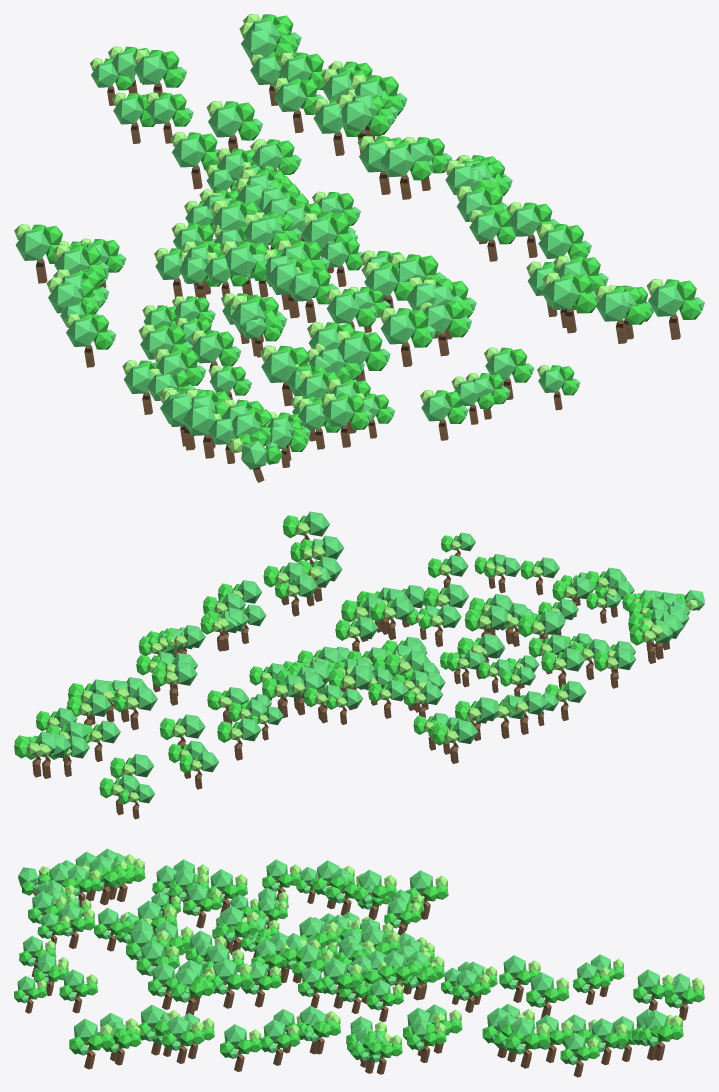
The model's file is tree1.gltf.
3 views of the same model, one above another, from view 1: azimuth 30°, elevation 25°; view 2: azimuth 150°, elevation 25°; view 3: azimuth 270°, elevation 25° (orthographic). The views are drawn at different scales.
Visible parts, largest first — view 1: tree 1.127, tree 1.101, tree 1.065, tree 1.100, tree 1.113, tree 1.017, tree 1.098, tree 1.076, tree 1.051, tree 1.031, tree 1.005, tree 1.029 (+73 smaller); view 2: tree 1.017, tree 1.104, tree 1.076, tree 1.031, tree 1.127, tree 1.019, tree 1.100, tree 1.014, tree 1.072, tree 1.122, tree 1.105, tree 1.047 (+62 smaller); view 3: tree 1.127, tree 1.126, tree 1.093, tree 1.122, tree 1.100, tree 1.084, tree 1.114, tree 1.125, tree 1.037, tree 1.092, tree 1.098, tree 1.076 (+87 smaller).
Boxes of the visible parts, left/top/right/bottom form: tree 1.127: left=646, top=279, right=704, bottom=339; tree 1.101: left=542, top=272, right=598, bottom=333; tree 1.065: left=379, top=308, right=435, bottom=366; tree 1.100: left=206, top=101, right=262, bottom=153; tree 1.113: left=594, top=285, right=650, bottom=343; tree 1.017: left=14, top=224, right=70, bottom=283; tree 1.098: left=132, top=49, right=186, bottom=97; tree 1.076: left=170, top=132, right=219, bottom=189; tree 1.051: left=337, top=331, right=390, bottom=381; tree 1.031: left=260, top=345, right=312, bottom=406; tree 1.005: left=64, top=313, right=116, bottom=367; tree 1.029: left=320, top=393, right=372, bottom=447; tree 1.017: left=432, top=719, right=477, bottom=763; tree 1.104: left=151, top=661, right=197, bottom=705; tree 1.076: left=217, top=718, right=261, bottom=760; tree 1.031: left=518, top=610, right=564, bottom=656; tree 1.127: left=282, top=511, right=329, bottom=542; tree 1.019: left=455, top=697, right=498, bottom=741; tree 1.100: left=159, top=714, right=205, bottom=748; tree 1.014: left=541, top=648, right=585, bottom=688; tree 1.072: left=370, top=597, right=414, bottom=639; tree 1.122: left=14, top=731, right=56, bottom=777; tree 1.105: left=113, top=687, right=157, bottom=730; tree 1.047: left=464, top=605, right=508, bottom=635; tree 1.127: left=69, top=1018, right=113, bottom=1069; tree 1.126: left=505, top=1017, right=550, bottom=1068; tree 1.093: left=211, top=957, right=252, bottom=1008; tree 1.122: left=639, top=1009, right=683, bottom=1060; tree 1.100: left=526, top=972, right=569, bottom=1018; tree 1.084: left=318, top=958, right=362, bottom=1008; tree 1.114: left=162, top=1015, right=204, bottom=1063; tree 1.125: left=220, top=1024, right=261, bottom=1071; tree 1.037: left=215, top=905, right=259, bottom=954; tree 1.092: left=170, top=967, right=214, bottom=1015; tree 1.098: left=633, top=969, right=674, bottom=1010; tree 1.076: left=499, top=955, right=540, bottom=1002.
Size of the model in its own units: 26.27 by 3.56 by 39.73.
